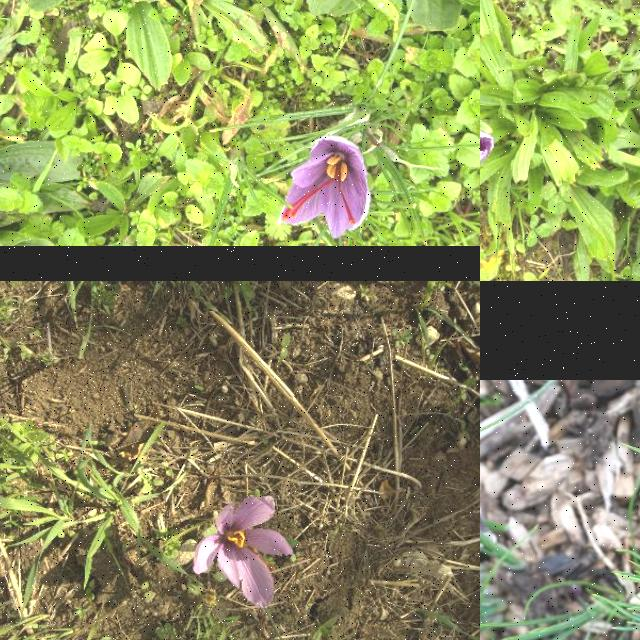flower: (192, 497, 294, 609), (279, 136, 371, 240), (480, 131, 493, 171)
